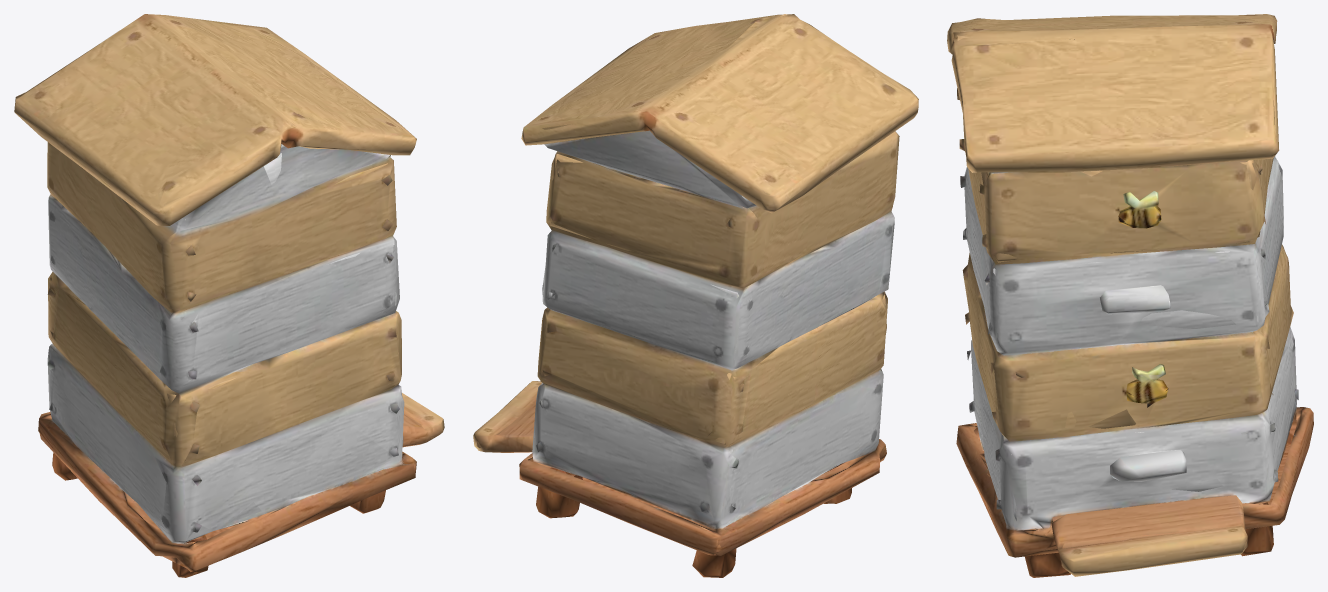
The model's file is beehive.glb.
The picture shows the model from 3 angles, left to right: view 1: azimuth 30°, elevation 25°; view 2: azimuth 150°, elevation 25°; view 3: azimuth 270°, elevation 25°; orthographic projection. The views are drawn at different scales.
Size of the model in its own units: 0.7849 by 1 by 0.669.
1 material, 1 textured.
